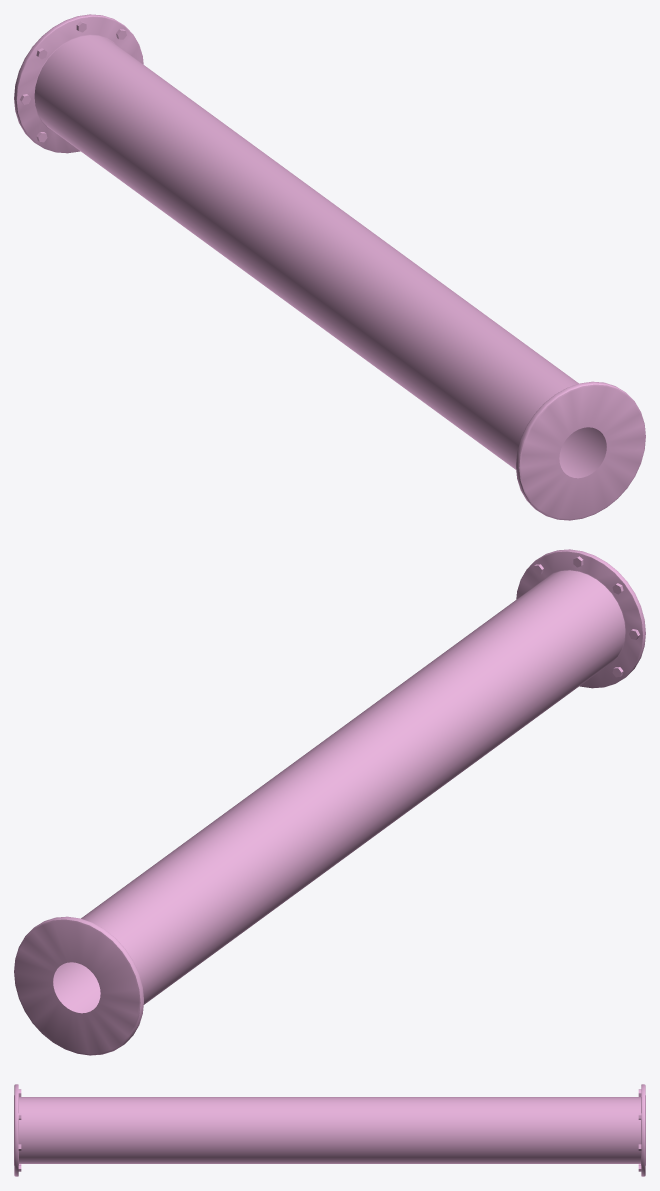
3 views of the same model, one above another, from view 1: azimuth 30°, elevation 25°; view 2: azimuth 150°, elevation 25°; view 3: azimuth 270°, elevation 25° (orthographic). The views are drawn at different scales.
Parts seen in each view (by area): view 1: 100x15x15_low; view 2: 100x15x15_low; view 3: 100x15x15_low, 100x15x15xbolt_low.
Boxes of the visible parts, x1,y1,x2,y2 form: 100x15x15_low: (14, 14, 645, 520); 100x15x15_low: (14, 549, 645, 1055); 100x15x15_low: (14, 1084, 645, 1176); 100x15x15xbolt_low: (18, 1089, 641, 1171).
Bounding box in the file's own units: 29.23 × 29.23 × 200.
